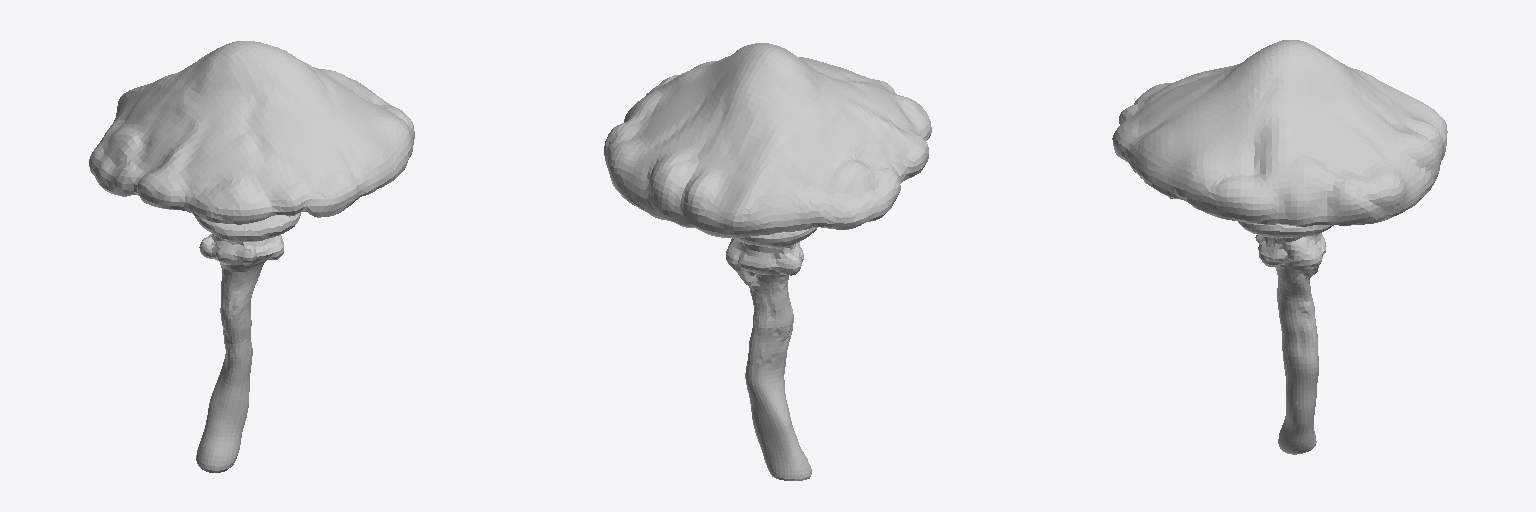
File: Mushroom_big1_high.obj
The picture shows the model from 3 angles: view 1: azimuth 30°, elevation 25°; view 2: azimuth 150°, elevation 25°; view 3: azimuth 270°, elevation 25°; orthographic projection.
Parts seen in each view (by area): view 1: Group46184; view 2: Group46184; view 3: Group46184.
Part boxes in pixels (x1,y1,x2,y2): Group46184: (89,41,414,472); Group46184: (604,43,931,480); Group46184: (1112,40,1447,454).
Size of the model in its own units: 0.8092 by 1.19 by 0.8584.